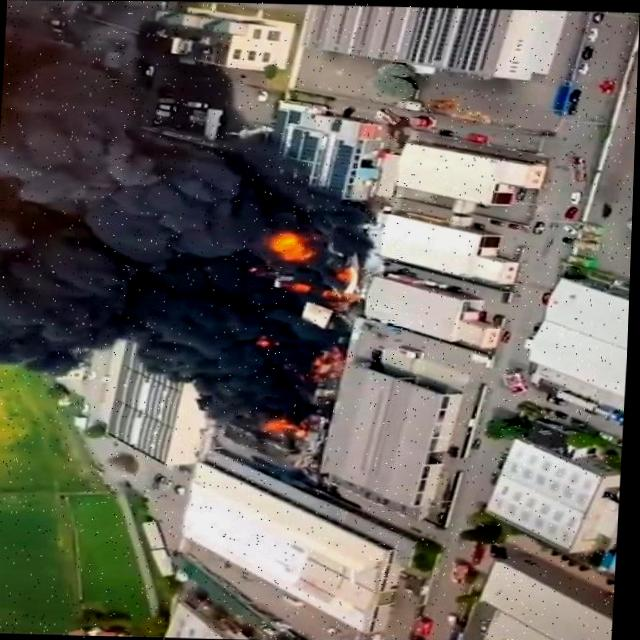Smoke: (0, 4, 244, 394), (221, 155, 360, 452)
